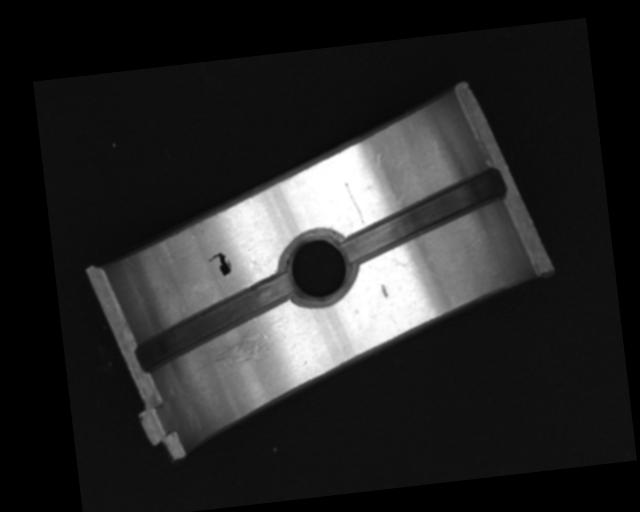blot: (206, 250, 233, 279)
bruise: (379, 282, 389, 299)
gap: (128, 272, 299, 372), (336, 169, 510, 265)
hole: (277, 226, 359, 307)
nick: (344, 180, 366, 226)
scratch: (182, 312, 287, 371)
